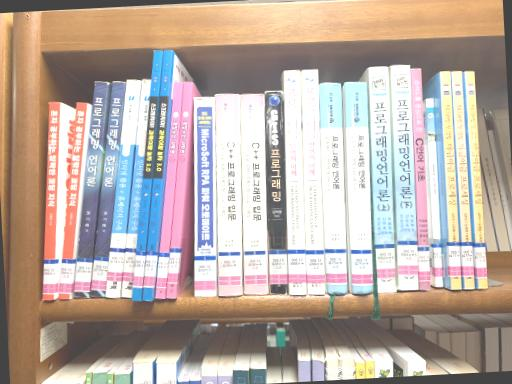book-spine: (72, 82, 109, 297), (90, 82, 125, 297), (131, 51, 161, 300), (106, 80, 140, 298), (143, 50, 172, 301), (121, 79, 150, 298), (368, 67, 396, 293), (319, 82, 348, 295), (344, 82, 373, 295), (391, 66, 418, 290), (57, 103, 87, 299), (155, 83, 182, 298), (215, 94, 242, 296), (167, 82, 192, 299), (240, 94, 267, 294), (302, 70, 325, 295), (284, 70, 306, 296), (452, 71, 474, 289), (465, 72, 487, 289), (265, 91, 287, 294), (194, 97, 216, 297), (441, 71, 461, 290), (411, 68, 430, 290), (42, 102, 60, 301), (426, 98, 443, 287)
